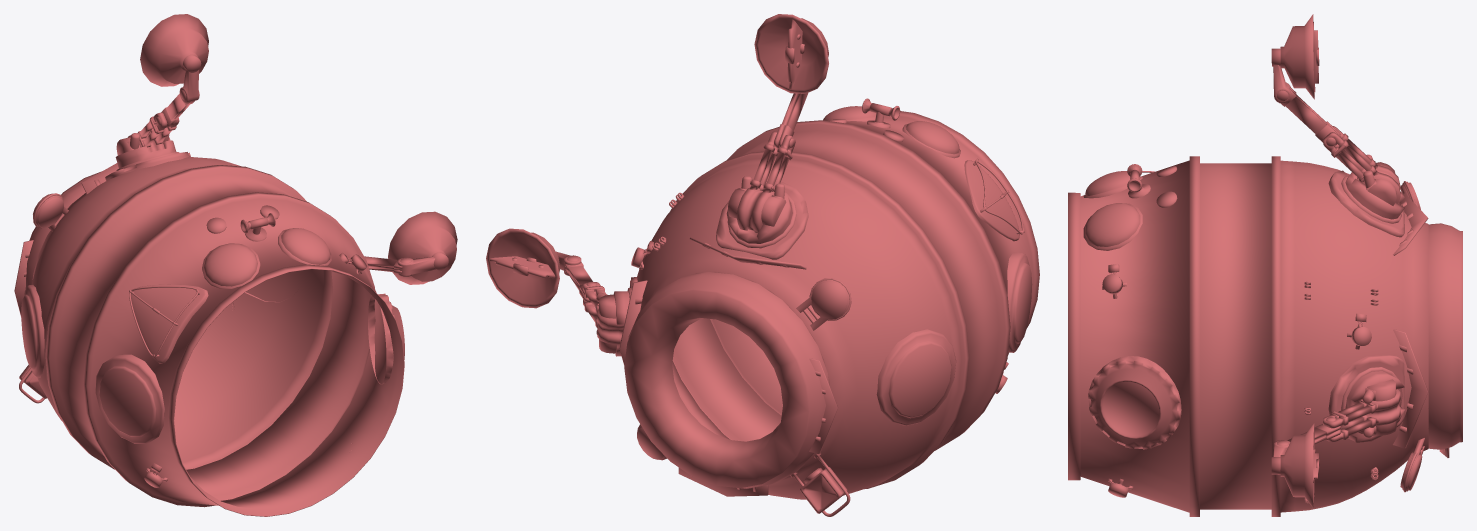
The model's file is Cargo compartment2Sides.fbx.
3 renders of one model, left to right at view 1: azimuth 30°, elevation 25°; view 2: azimuth 150°, elevation 25°; view 3: azimuth 270°, elevation 25°, orthographic. The views are drawn at different scales.
Parts seen in each view (by area): view 1: Cargo compartment.002; view 2: Cargo compartment.002; view 3: Cargo compartment.002.
Boxes of the visible parts, x1,y1,x2,y2 form: Cargo compartment.002: (14, 14, 457, 516); Cargo compartment.002: (486, 14, 1039, 516); Cargo compartment.002: (1068, 14, 1462, 516).
Bounding box in the file's own units: 366 × 366 × 272.
